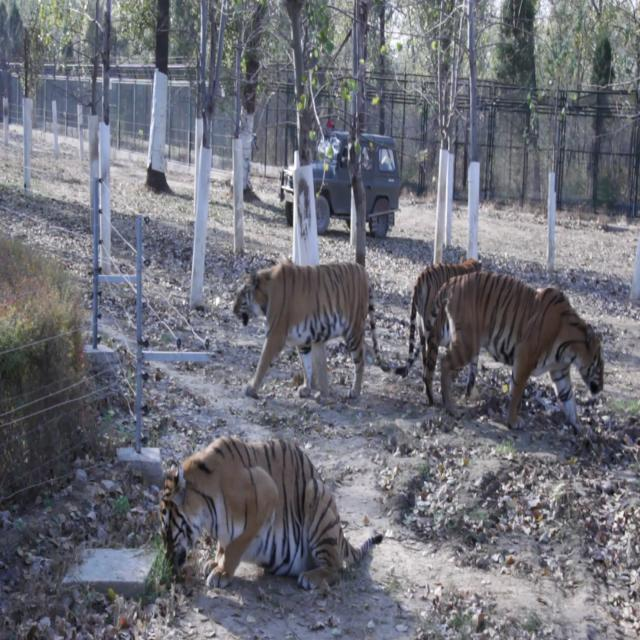Tiger: (158, 426, 388, 594), (399, 264, 606, 447), (224, 255, 392, 408), (407, 245, 483, 328)
